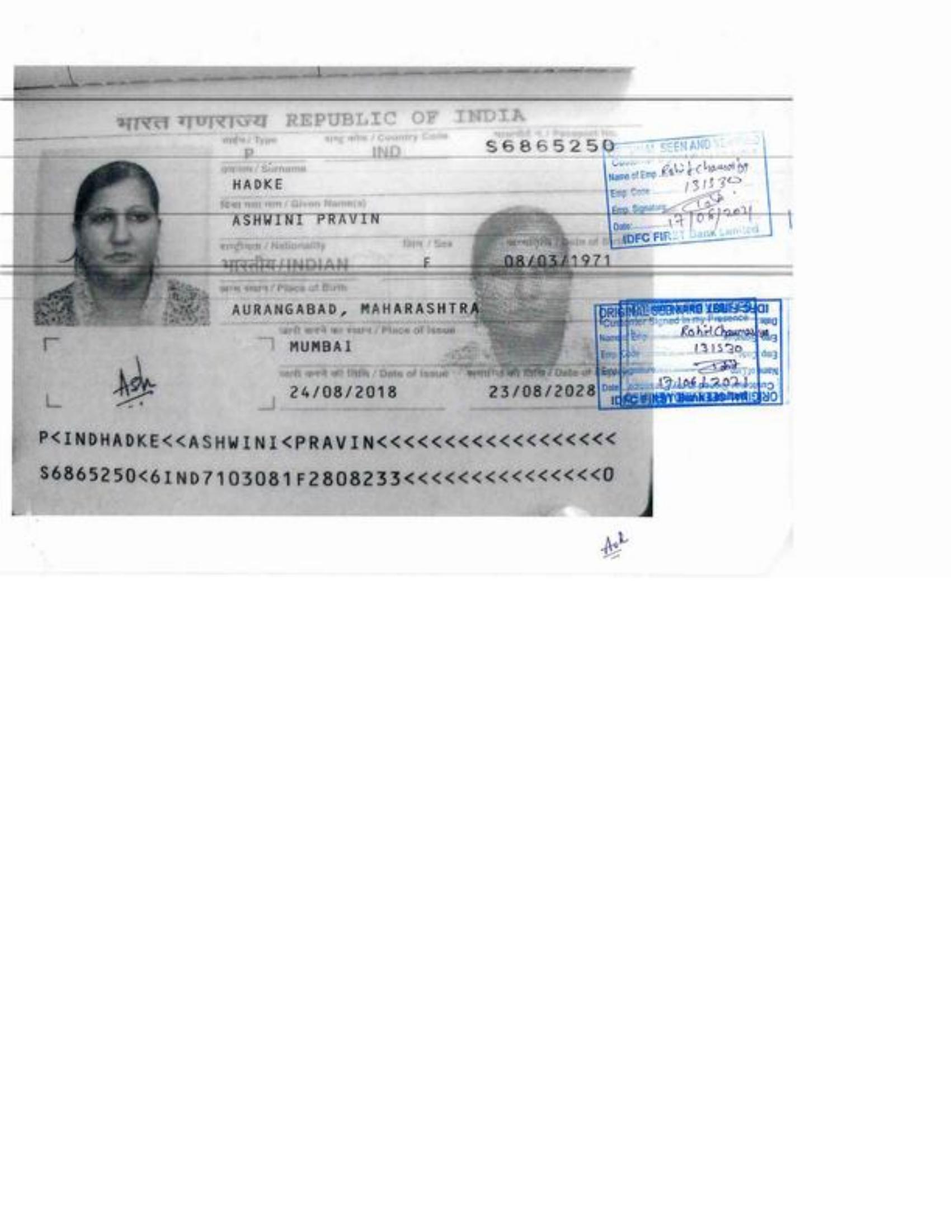DOB: (495, 245, 616, 274)
Surname: (222, 173, 309, 196)
country_code: (360, 141, 427, 169)
date_of_expiry: (479, 376, 599, 407)
date_of_issue: (280, 380, 406, 406)
details: (26, 422, 630, 493)
name: (217, 210, 392, 237)
nationality: (209, 247, 349, 276)
passport_no: (477, 130, 619, 159)
photo: (48, 159, 196, 315)
place_of_birth: (219, 294, 485, 326)
place_of_issue: (276, 329, 359, 364)
sex: (407, 246, 449, 274)
sign: (97, 356, 182, 414)
type: (229, 142, 270, 165)
